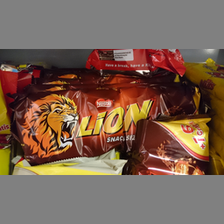chocolate: (18, 89, 195, 160), (128, 120, 214, 175), (86, 50, 183, 77)
